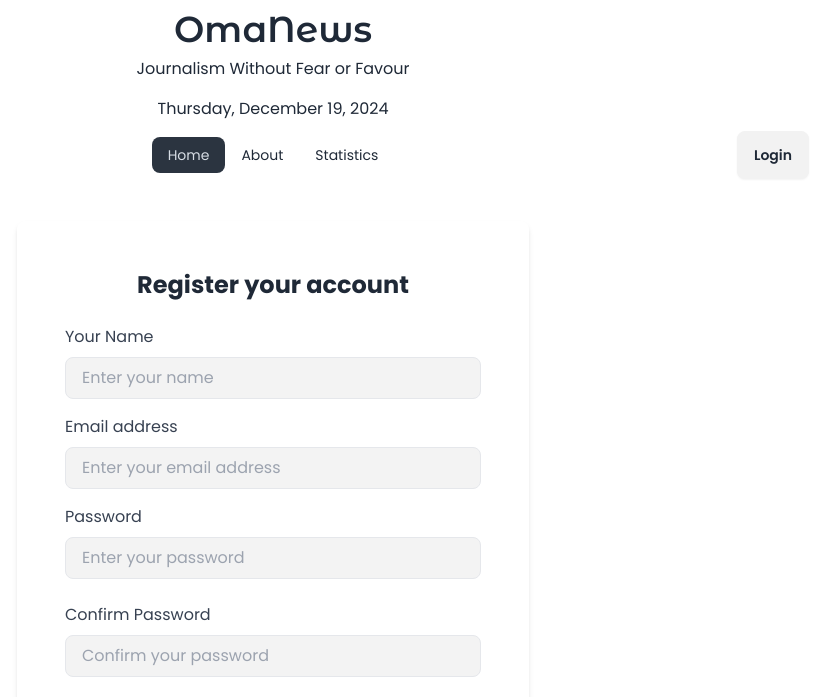
Test case: Register Component › Form Validation › validates name length
Step 1. Type "ab" into the field with placeholder "Enter your name" → point(273, 378), box [65,357,481,399]
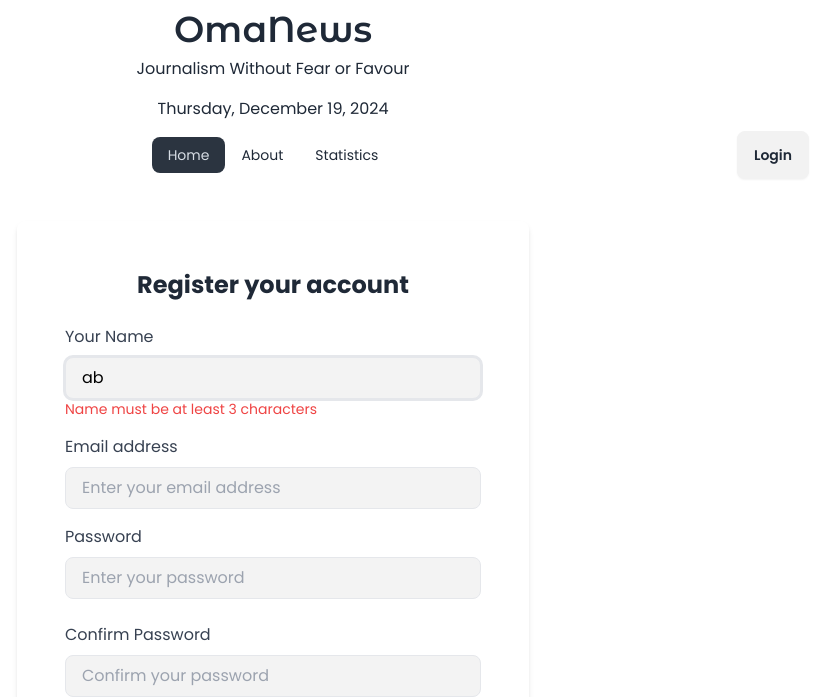
Check: the text "Name must be at least 3 characters" is shown, box [65,399,317,419]
Step 2. Replace the text in the field with placeholder "Enter your name" with "John" → point(273, 378), box [65,357,481,399]
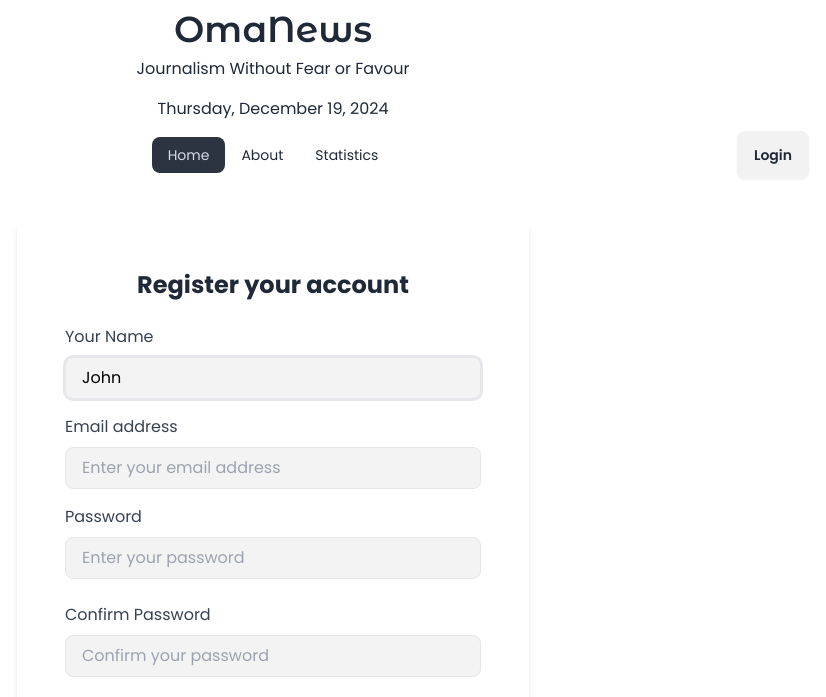
Check: the text "Name must be at least 3 characters" is gone
